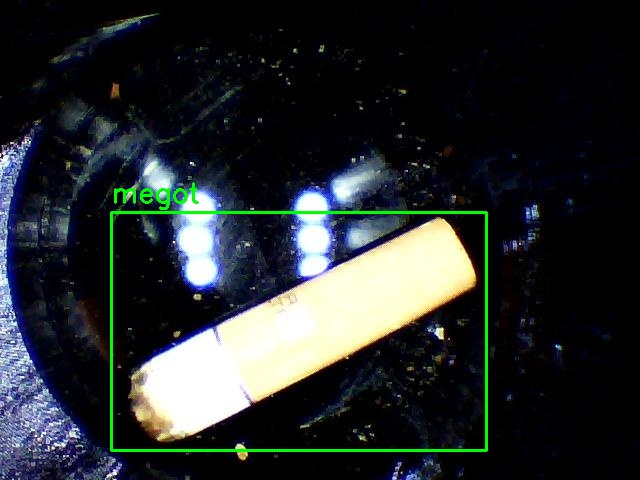megot: (111, 212, 486, 450)
